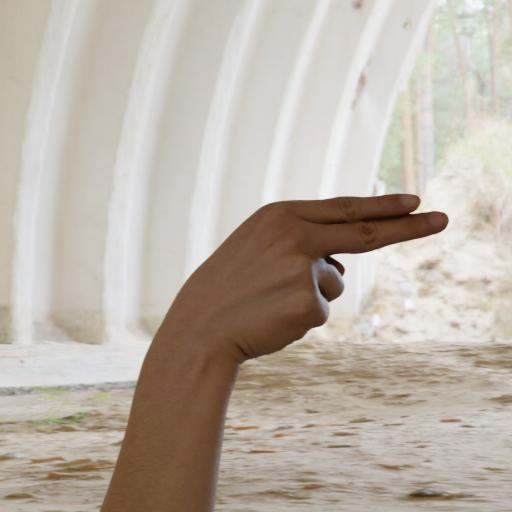H: (166, 190, 456, 361)
